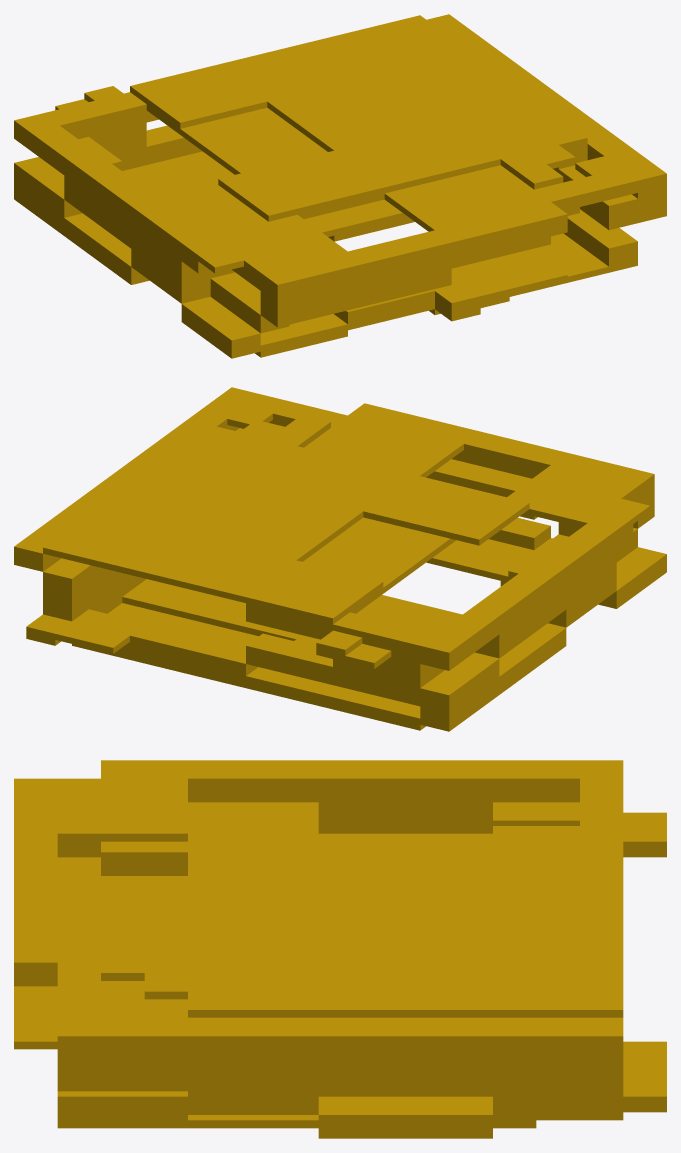
The model's file is spawn_point.obj.
The picture shows the model from 3 angles, top to bottom: view 1: azimuth 30°, elevation 25°; view 2: azimuth 150°, elevation 25°; view 3: azimuth 270°, elevation 25°; orthographic projection. The views are drawn at different scales.
Visible parts, largest first — view 1: Cube; view 2: Cube; view 3: Cube.
Part boxes in pixels (left/top/right/bottom): Cube: left=14, top=14, right=666, bottom=358; Cube: left=14, top=387, right=666, bottom=731; Cube: left=14, top=760, right=666, bottom=1138.
Bounding box in the file's own units: 1.17 × 0.2348 × 1.17.
